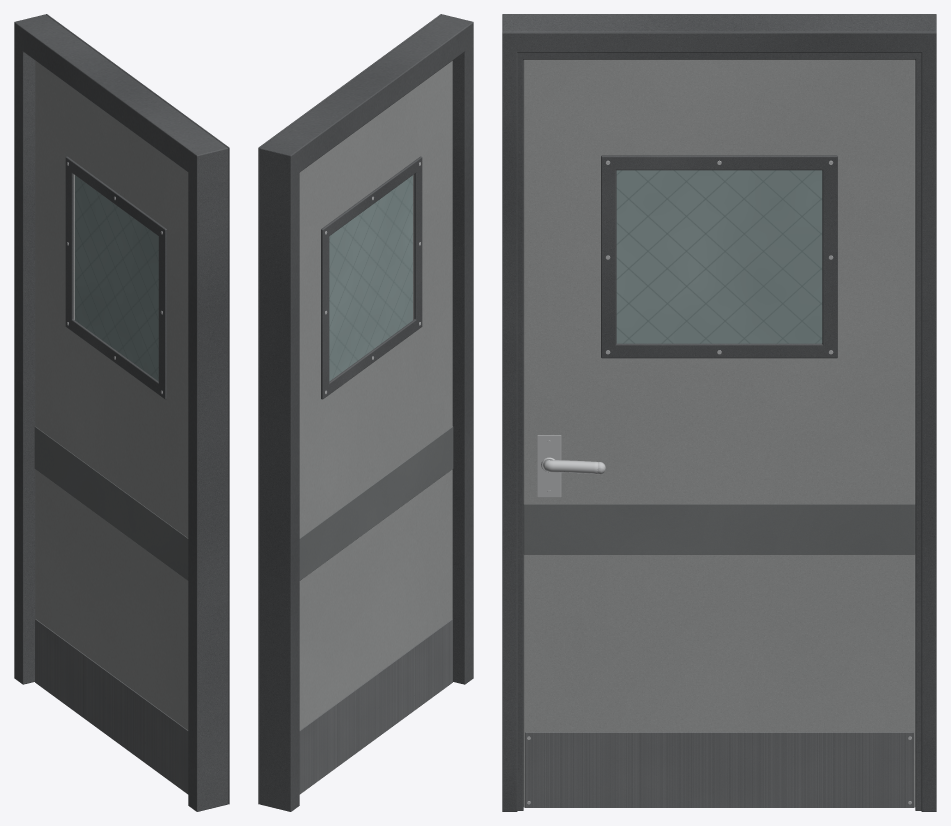
The model's file is puerta_animada.fbx.
3 views of the same model, side by side, from view 1: azimuth 30°, elevation 25°; view 2: azimuth 150°, elevation 25°; view 3: azimuth 270°, elevation 25° (orthographic). The views are drawn at different scales.
Visible parts, largest first — view 1: Hoja_Puerta, Marco_Jamba, Vidrio_Armado, Zapata_Patada, Banda_Proteccion, Bisel_Ventana_Dorso, Marco_Ala; view 2: Hoja_Puerta, Marco_Jamba, Vidrio_Armado, Zapata_Patada, Banda_Proteccion, Bisel_Ventana_Dorso, Marco_Ala; view 3: Hoja_Puerta, Vidrio_Armado, Marco_Ala, Zapata_Patada, Marco_Jamba, Banda_Proteccion, Bisel_Ventana_Frente, Manija_Placa.
Part boxes in pixels (x1,y1,x2,y2): Hoja_Puerta: (35,61,188,730); Marco_Jamba: (14,14,228,811); Vidrio_Armado: (75,175,158,381); Zapata_Patada: (35,619,188,794); Banda_Proteccion: (34,426,188,580); Bisel_Ventana_Dorso: (65,156,166,399); Marco_Ala: (46,14,229,804); Hoja_Puerta: (299,61,452,730); Marco_Jamba: (259,14,473,811); Vidrio_Armado: (329,175,412,381); Zapata_Patada: (299,619,452,794); Banda_Proteccion: (299,426,453,580); Bisel_Ventana_Dorso: (321,156,422,399); Marco_Ala: (258,14,441,804); Hoja_Puerta: (523,59,915,807); Vidrio_Armado: (616,170,822,343); Marco_Ala: (502,32,936,811); Zapata_Patada: (525,732,913,807); Marco_Jamba: (502,14,936,810); Banda_Proteccion: (523,504,915,554); Bisel_Ventana_Frente: (601,155,837,358); Manija_Placa: (537,435,561,497).
Bounding box in the file's own units: 0.444 × 8.41 × 4.25.
7 materials, 6 textured.
